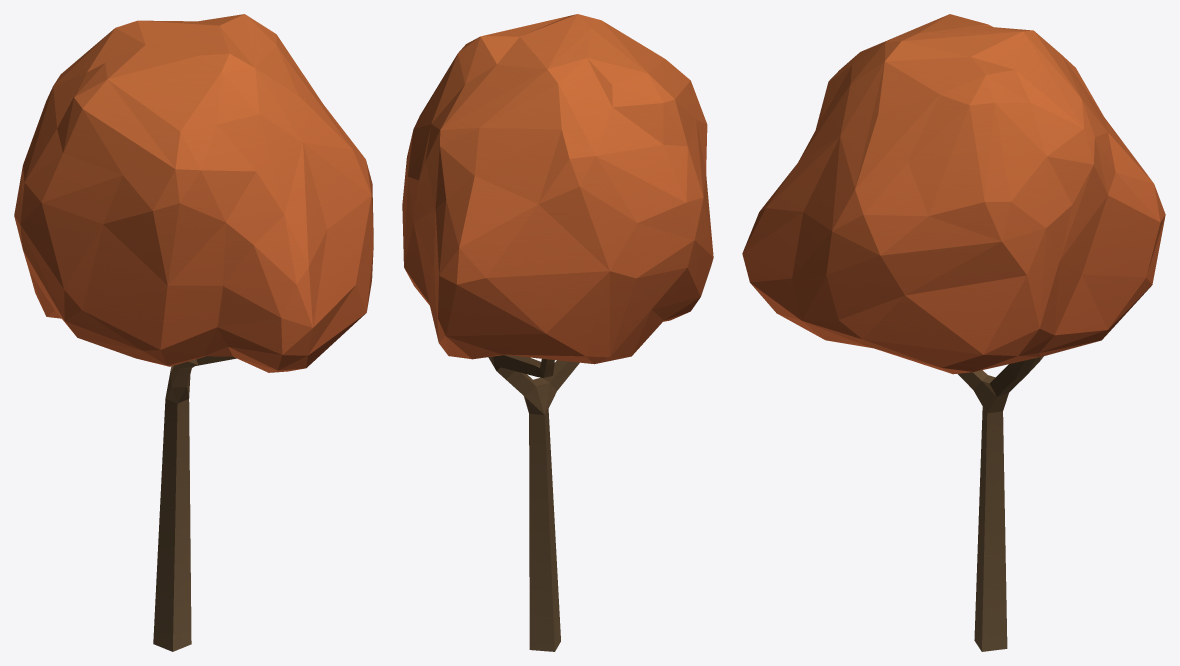
The model's file is large-tree-2.glb.
The picture shows the model from 3 angles, left to right: view 1: azimuth 30°, elevation 25°; view 2: azimuth 150°, elevation 25°; view 3: azimuth 270°, elevation 25°; orthographic projection. The views are drawn at different scales.
Visible parts, largest first — view 1: large-tree-2; view 2: large-tree-2; view 3: large-tree-2.
Boxes of the visible parts, box(x1,y1,x2,y2) form: large-tree-2: box(14, 14, 373, 651); large-tree-2: box(402, 14, 713, 651); large-tree-2: box(742, 14, 1165, 651).
Bounding box in the file's own units: 0.1788 × 0.3568 × 0.2246.
1 material, 1 textured.
